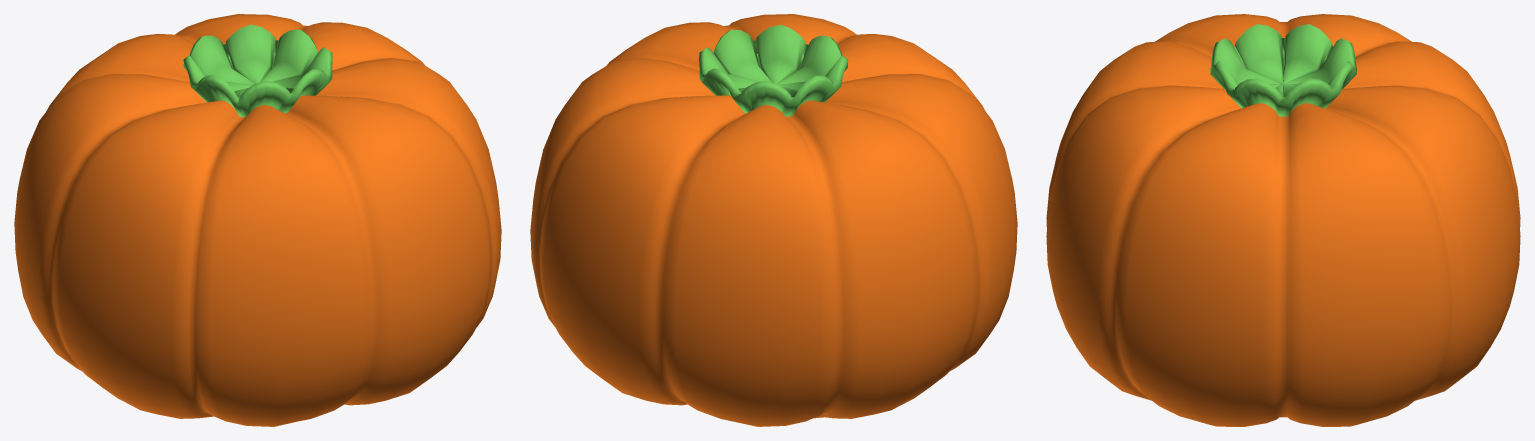
Rendered from Pumkin_Middle.fbx.
The picture shows the model from 3 angles, left to right: view 1: azimuth 30°, elevation 25°; view 2: azimuth 150°, elevation 25°; view 3: azimuth 270°, elevation 25°; orthographic projection.
Parts seen in each view (by area): view 1: Pumkin_Middle; view 2: Pumkin_Middle; view 3: Pumkin_Middle.
Part boxes in pixels (x1=…): Pumkin_Middle: x1=14, y1=14, x2=501, y2=426; Pumkin_Middle: x1=530, y1=14, x2=1017, y2=426; Pumkin_Middle: x1=1046, y1=14, x2=1520, y2=426.
Size of the model in its own units: 55.2 by 39.61 by 53.54.
